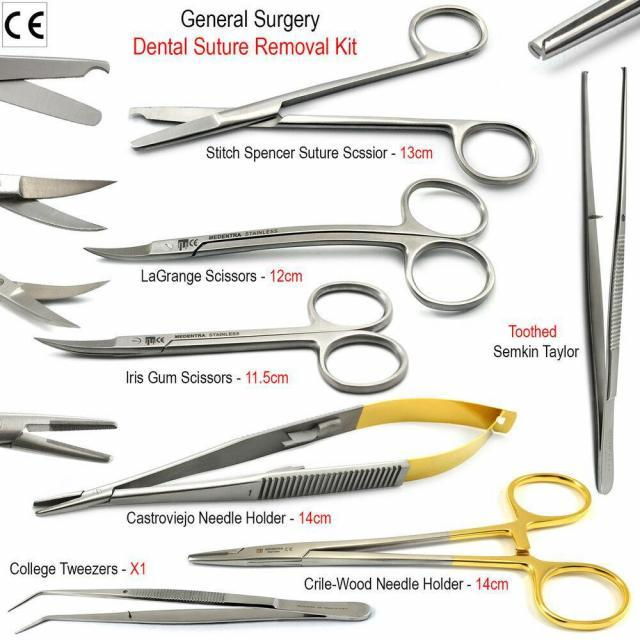Castroviejo: (31, 397, 519, 519), (0, 412, 120, 464)
Forceps: (578, 65, 630, 496), (6, 584, 376, 636), (525, 0, 639, 63)
Iris: (80, 176, 498, 315), (33, 279, 411, 397), (1, 172, 117, 232), (2, 274, 110, 330)
Mayo_metz: (126, 2, 538, 188), (0, 54, 112, 128)
